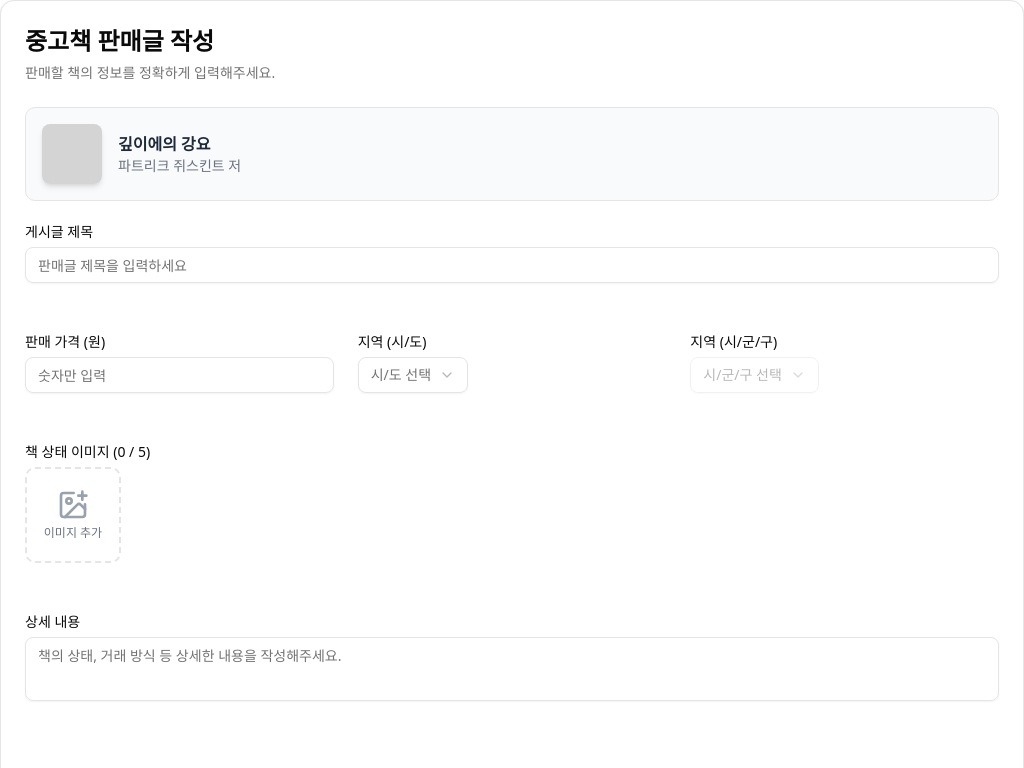
BookSaleForm › 제목 필드 유효성 검사 › 제목이 비어있을 때 에러 메시지를 표시해야 한다
Click the field with placeholder "판매글 제목을 입력하세요" at (512, 265), box [25, 247, 999, 283]
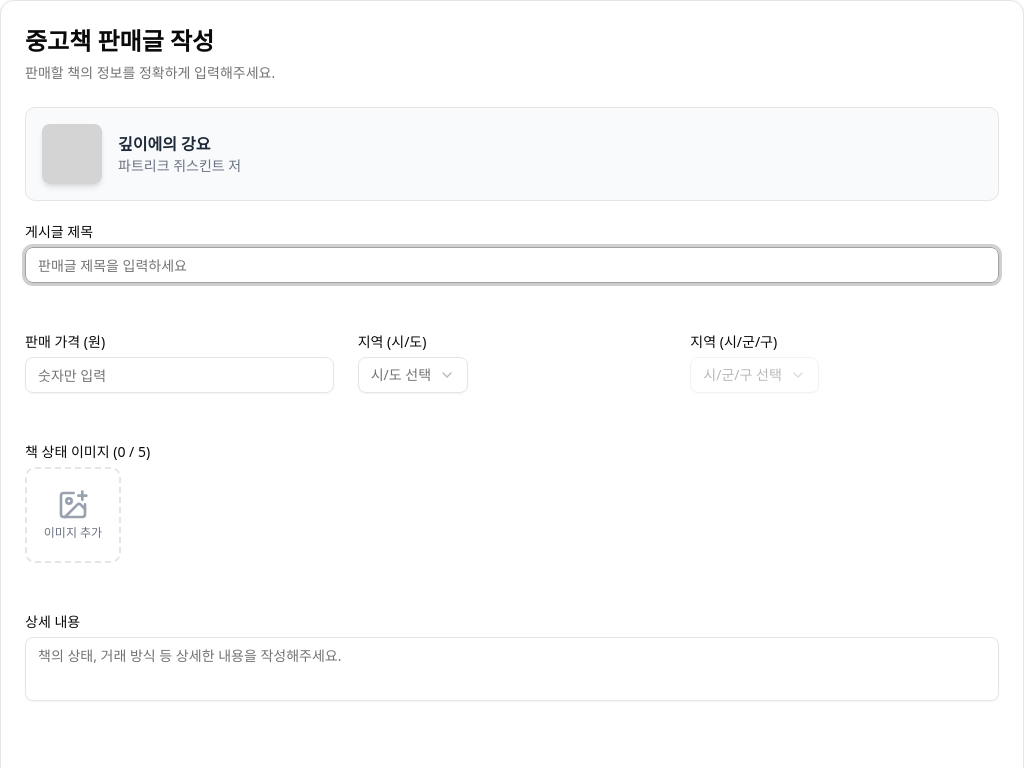
Press Tab
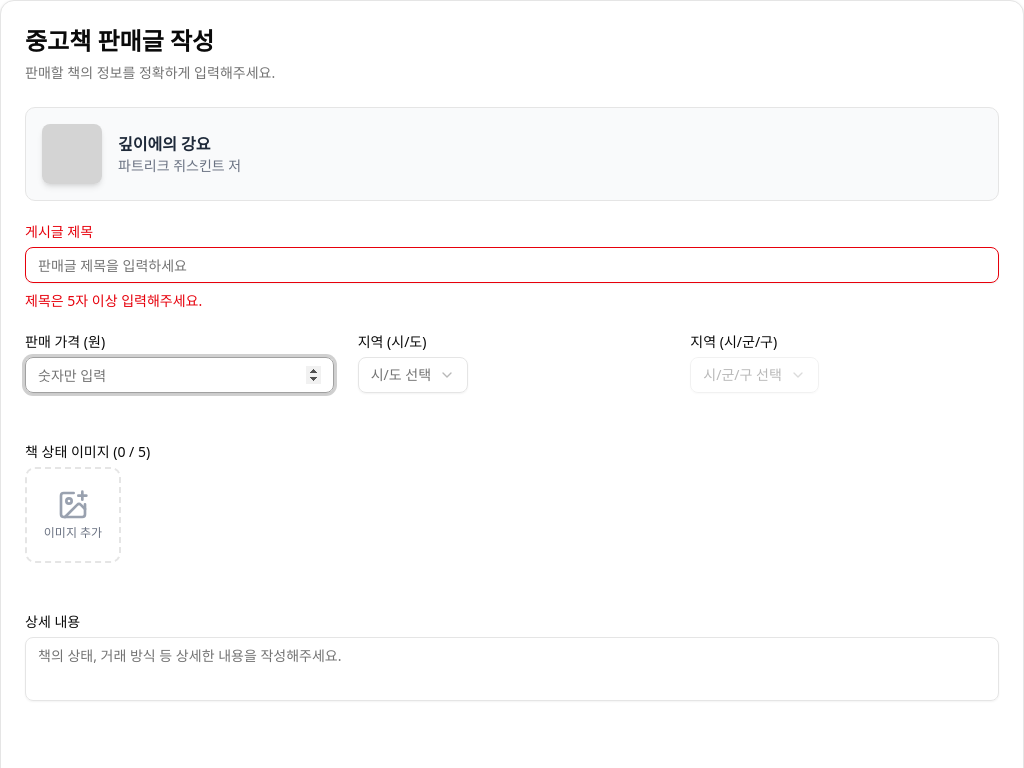
expect the text "제목은 5자 이상 입력해주세요." is shown: met, box [25, 291, 202, 310]
